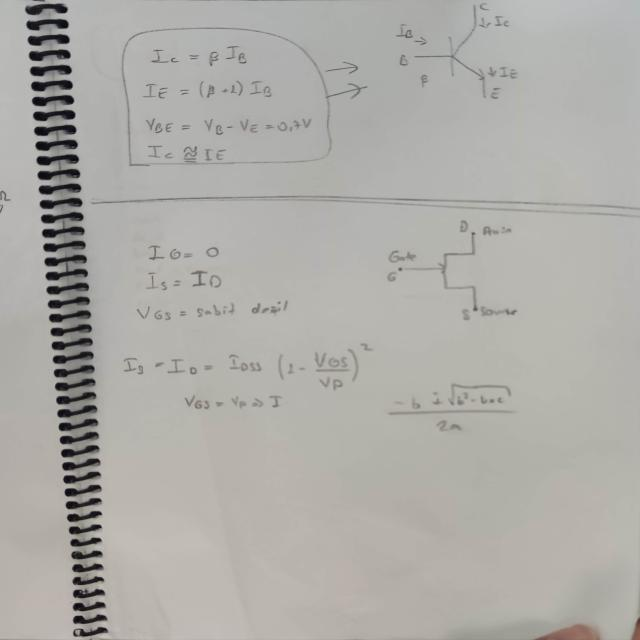image: (380, 214, 533, 330), (371, 0, 529, 112)
math: (135, 36, 323, 162), (113, 340, 372, 411), (128, 232, 294, 323), (388, 379, 527, 438)
